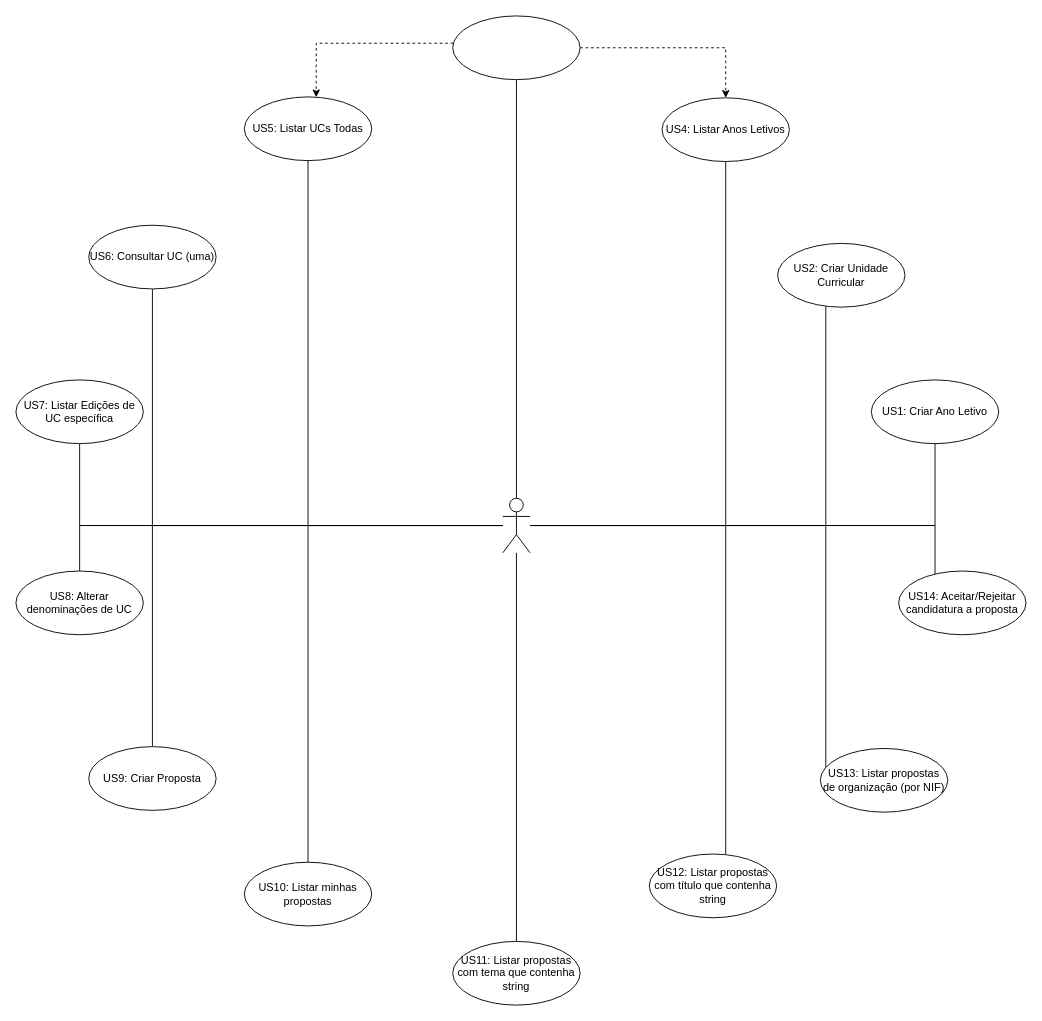
Some shapes in this 1042 by 1021 pixel diagram are drawn without their labels. The centre of each missing label's shape, as x and y in pixels:
US3: Criar Edição de UC: the point at 516,47
Utilizador: the point at 516,525
